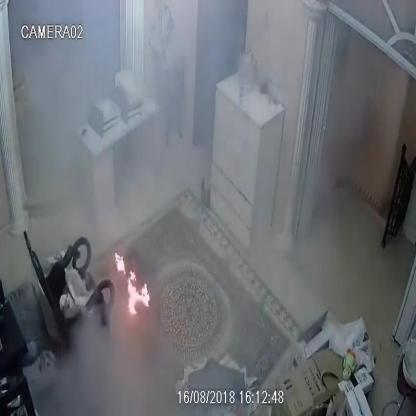fire: (127, 270, 150, 315), (115, 251, 126, 275)
